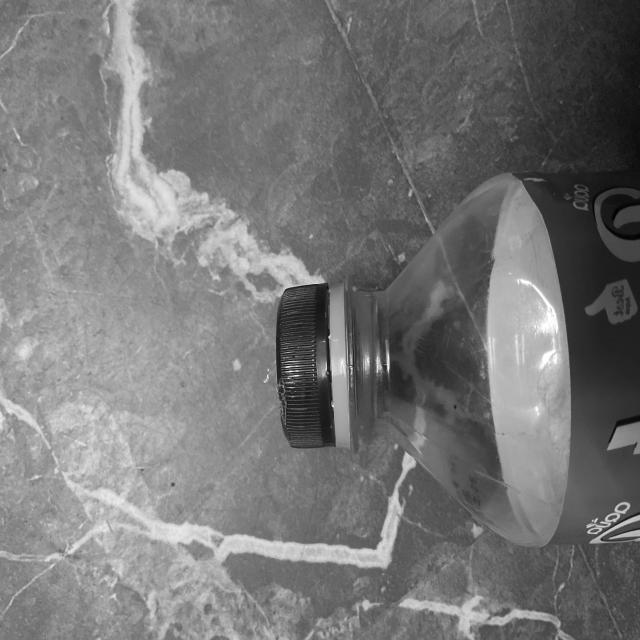Good-cap-Df0S: (271, 274, 355, 462)
